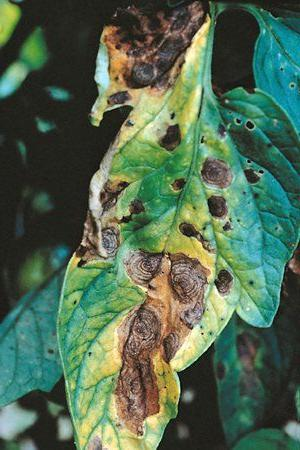Tomato Early blight leaf: (8, 6, 288, 450)
